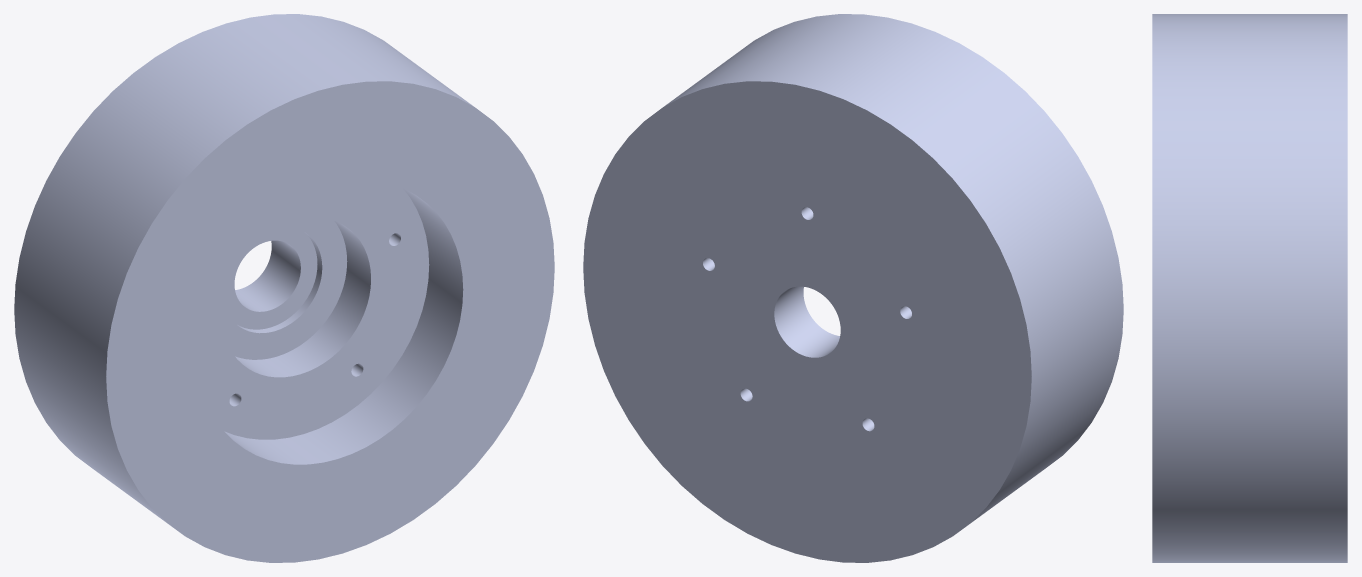
The model's file is _2025_Drivetrain_Back_tensioner_wheel_R2.obj.
3 views of the same model, side by side, from view 1: azimuth 30°, elevation 25°; view 2: azimuth 150°, elevation 25°; view 3: azimuth 270°, elevation 25° (orthographic). The views are drawn at different scales.
Visible parts, largest first — view 1: mesh17448, mesh17447, mesh17446, mesh17449, mesh17436, mesh17435, mesh17438, mesh17439, mesh17437; view 2: mesh17440, mesh17447, mesh17439; view 3: mesh17447.
Part boxes in pixels (x1,y1,x2,y2): mesh17448: (106, 81, 554, 562); mesh17447: (14, 14, 473, 530); mesh17446: (197, 179, 429, 439); mesh17449: (224, 188, 463, 464); mesh17436: (221, 217, 347, 359); mesh17435: (235, 221, 370, 377); mesh17438: (223, 226, 317, 329); mesh17439: (235, 240, 300, 311); mesh17437: (237, 232, 322, 333); mesh17440: (583, 81, 1031, 562); mesh17447: (664, 14, 1123, 530); mesh17439: (774, 286, 839, 357); mesh17447: (1152, 14, 1347, 562).
Bounding box in the file's own units: 0.0859 × 0.0857 × 0.0305.
